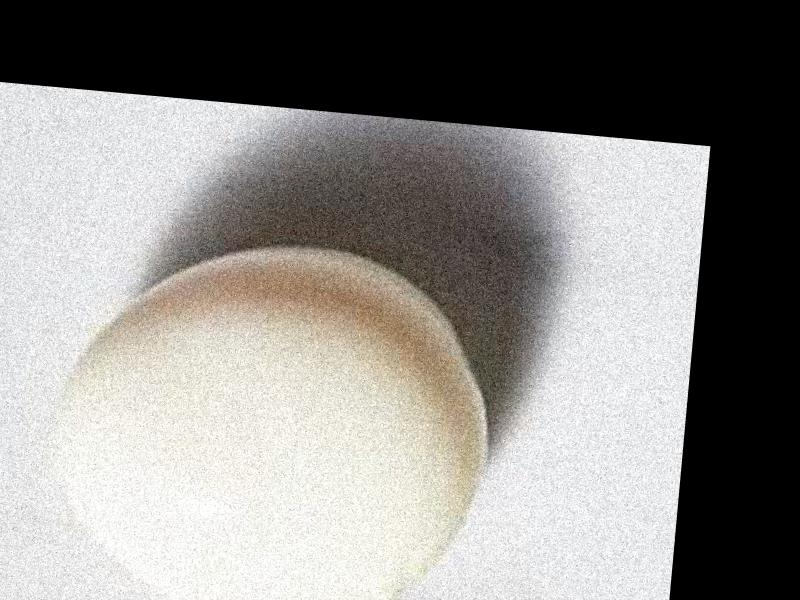Eggs: (43, 226, 505, 600)
